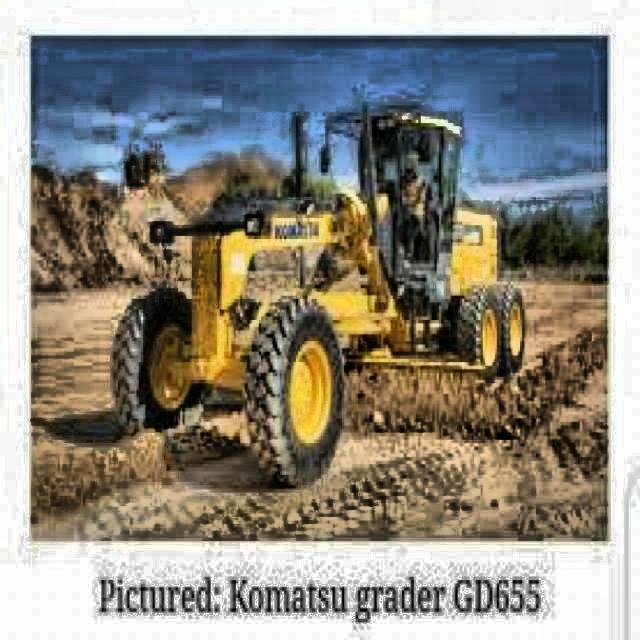bull_dozer/loader/grader: (107, 100, 529, 490)
person: (400, 154, 429, 262)
